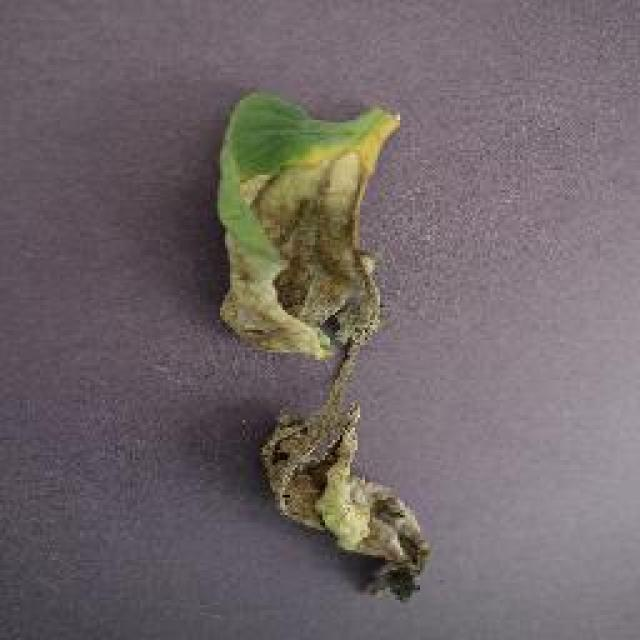Tomato___Late_blight: (213, 88, 435, 605)
